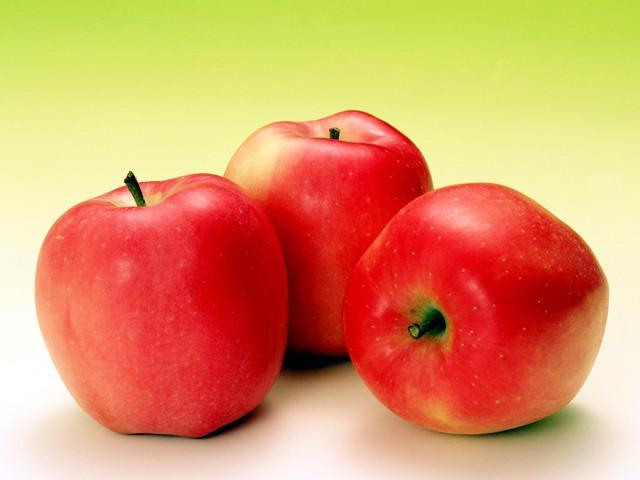apple: (34, 170, 286, 441), (343, 178, 607, 432), (219, 110, 432, 362)
